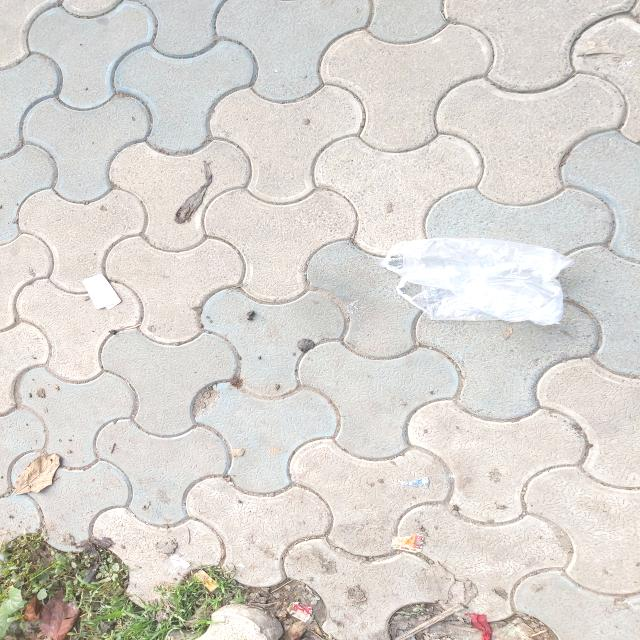Normal paper: (83, 274, 122, 310)
Other carton: (391, 535, 424, 554), (170, 554, 191, 570)
Other plastic: (192, 569, 219, 592), (286, 602, 312, 623)
Single-use carrier bag: (379, 237, 575, 326)
Unlabeled litter: (399, 478, 430, 488)
